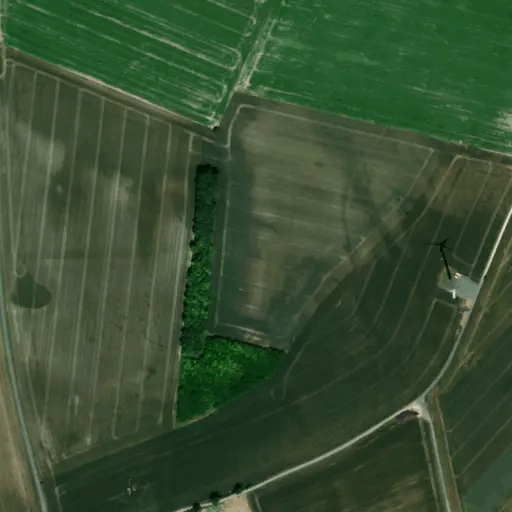wt: (422, 234, 472, 304)
